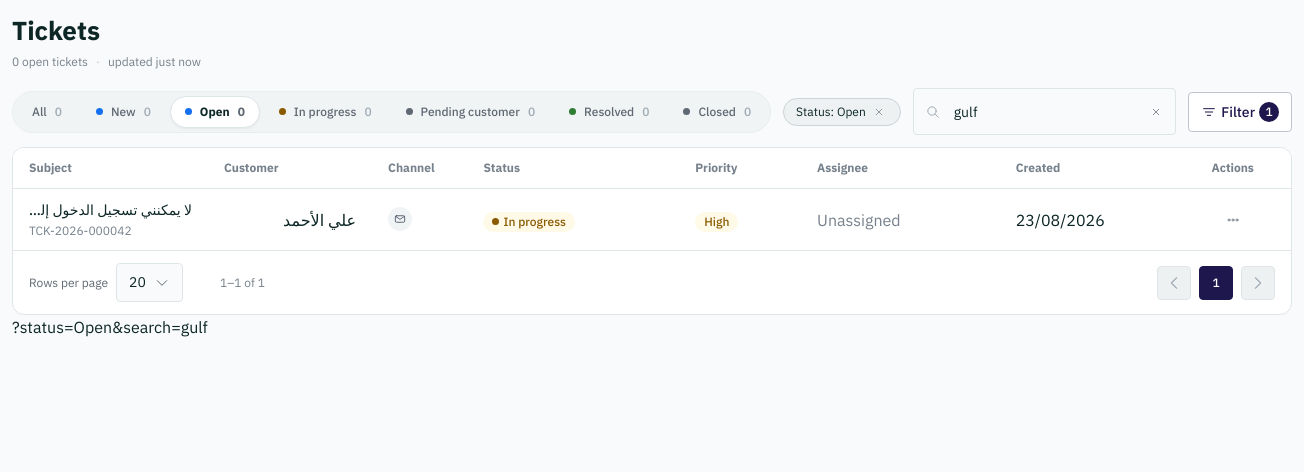
Test: the panel › مسح الكل clears the facets in one press and keeps the search term
Click the button "Filter 1" at (1240,112), box [1188, 92, 1292, 132]
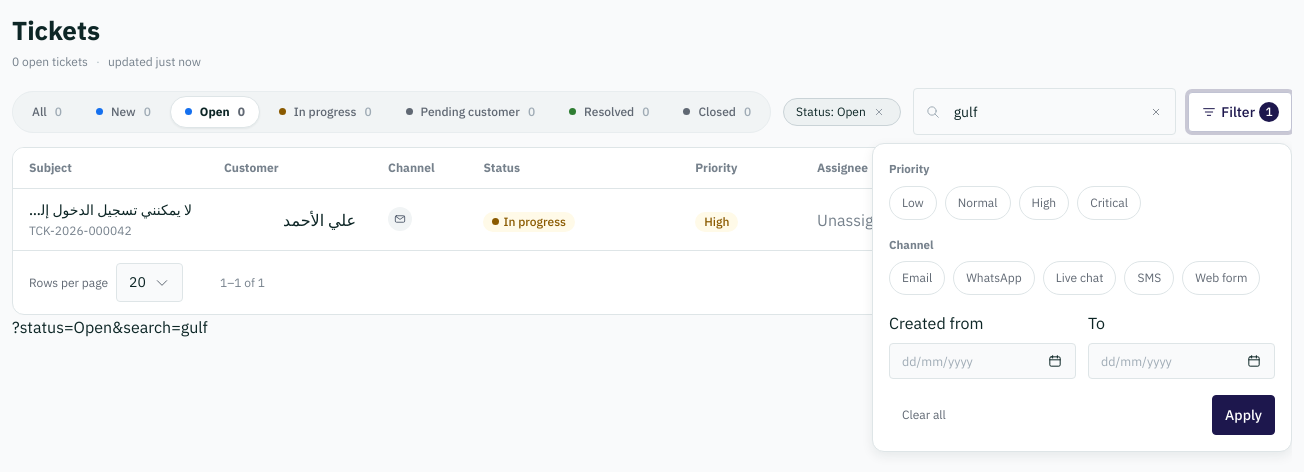
Click the button "Clear all" at (924,415), box [889, 399, 959, 431]
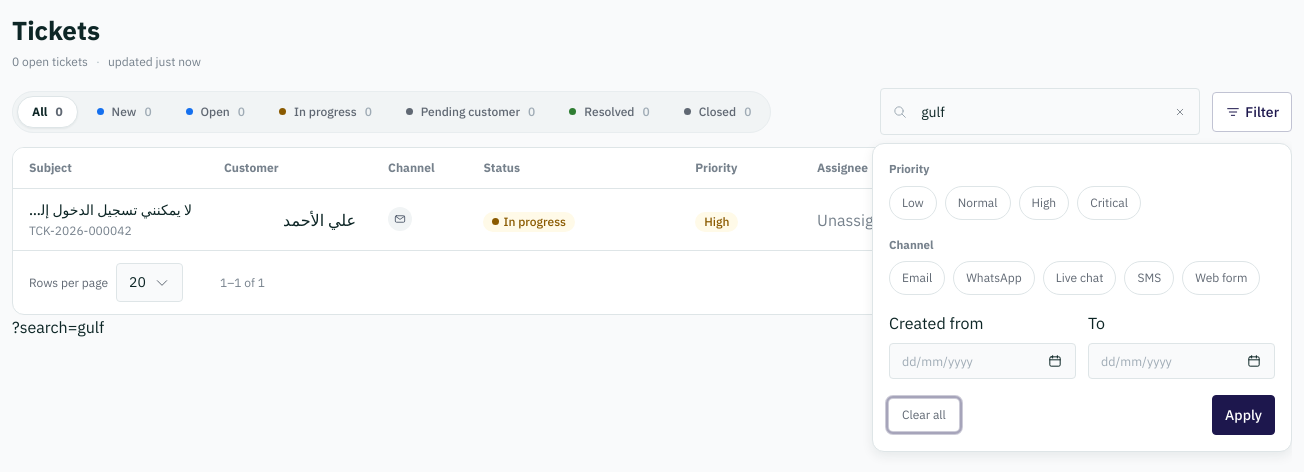
expect the text with test id "search" shows "search=gulf": met, box [12, 318, 104, 338]
expect the text with test id "search" no longer shows "status=": met
